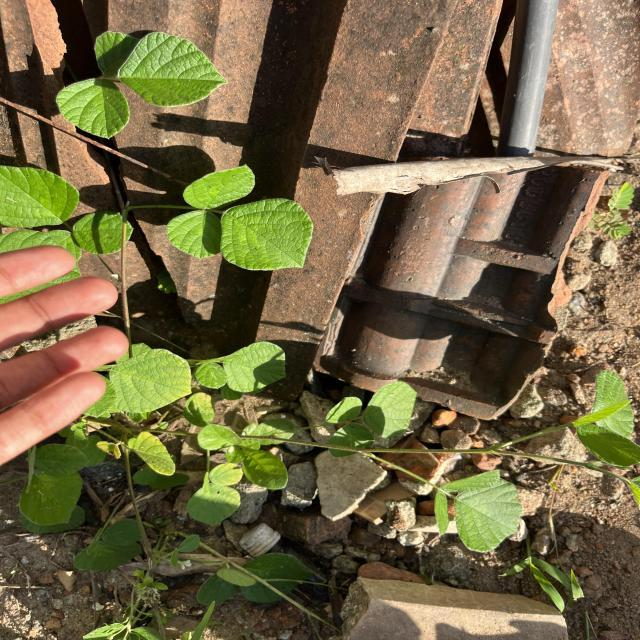Pseudarthria viscida: (52, 28, 230, 139), (163, 162, 316, 273), (430, 468, 529, 554), (324, 380, 422, 456)
